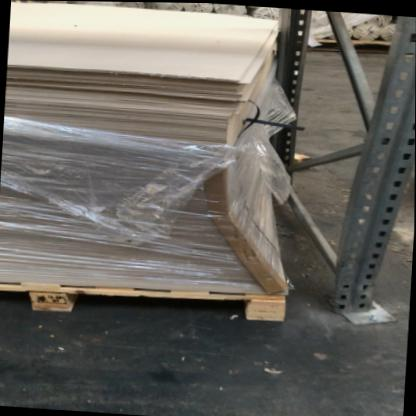vertical_damage: (323, 235, 400, 331)
